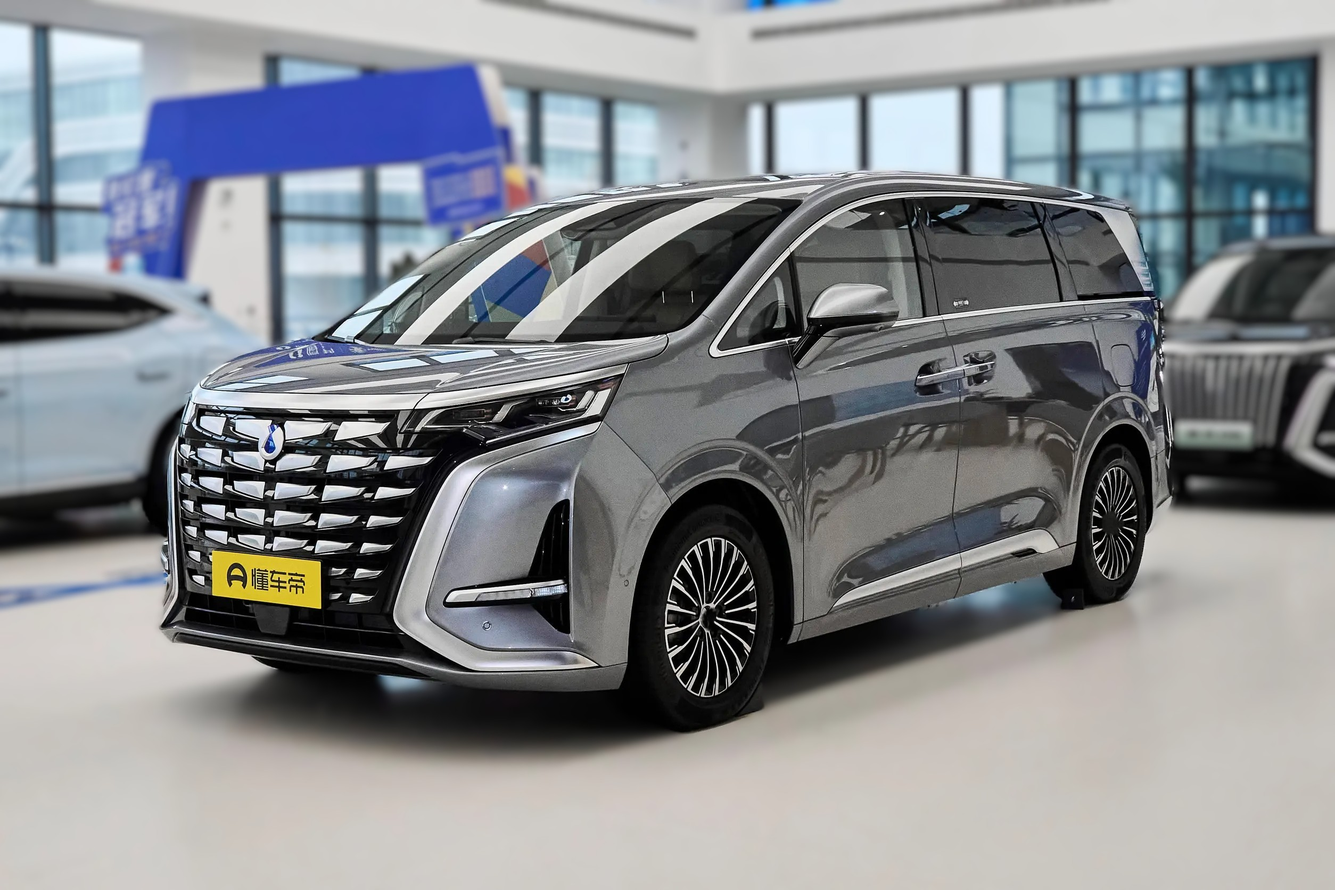DENZA: (259, 425, 283, 459)
